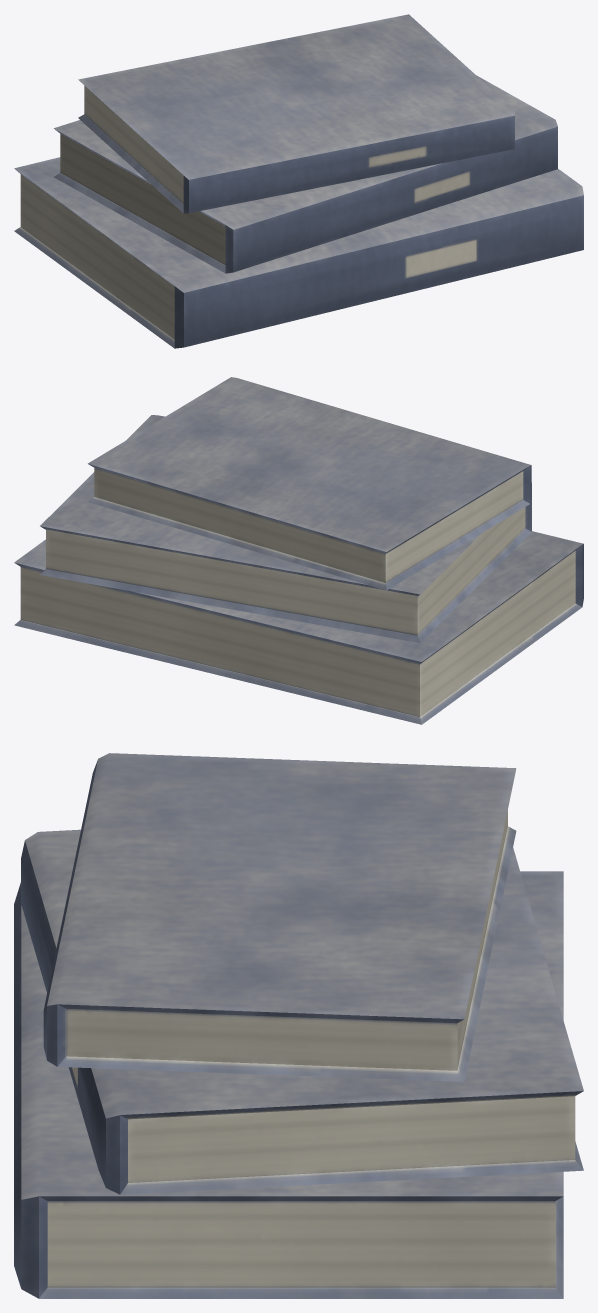
Rendered from book 5.fbx.
3 views of the same model, one above another, from view 1: azimuth 30°, elevation 25°; view 2: azimuth 150°, elevation 25°; view 3: azimuth 270°, elevation 25° (orthographic). The views are drawn at different scales.
Parts seen in each view (by area): view 1: book 5; view 2: book 5; view 3: book 5.
Boxes of the visible parts, <box> form: book 5: <box>14,14,583,348</box>; book 5: <box>14,377,583,724</box>; book 5: <box>14,753,583,1298</box>.
Size of the model in its own units: 0.245 by 0.0861 by 0.1815.
1 material, 1 textured.
